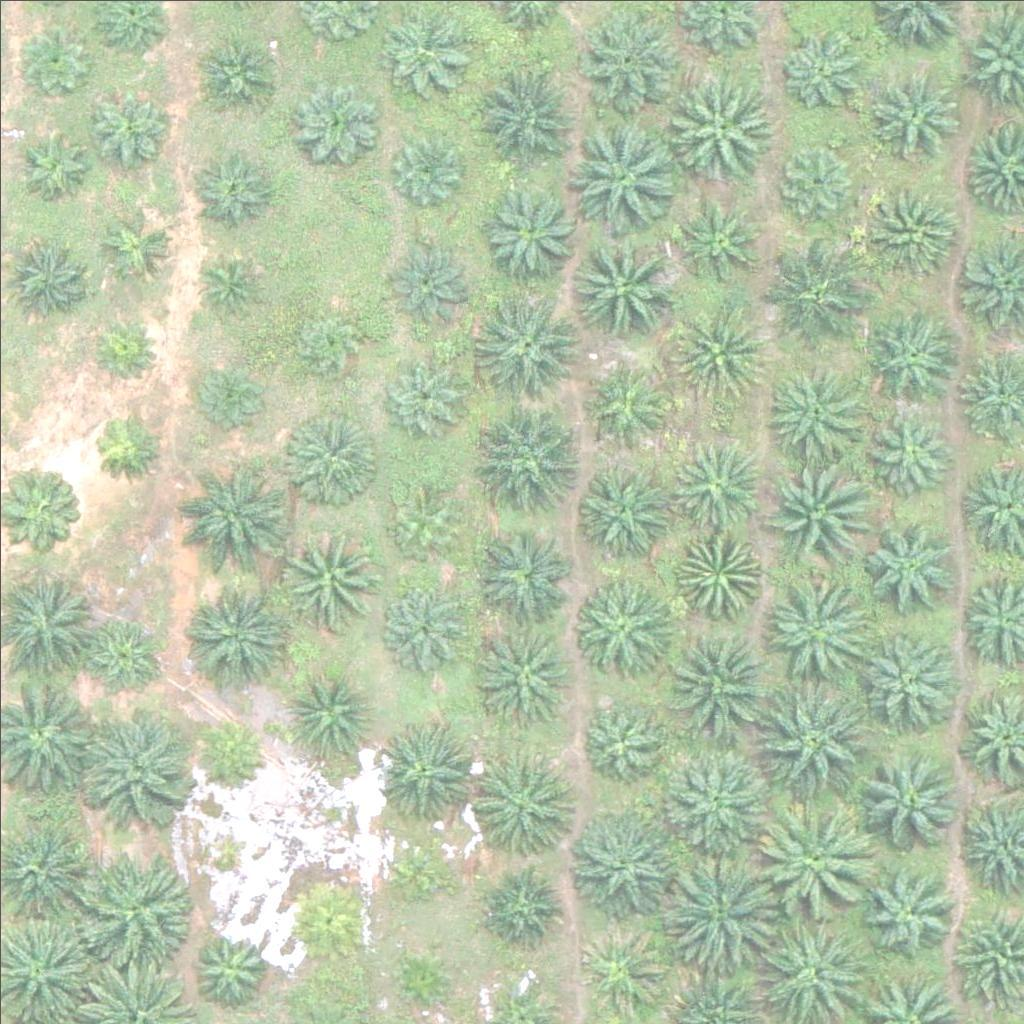Kelapa_Sawit: (475, 51, 588, 164), (566, 114, 679, 227), (755, 242, 868, 355), (755, 567, 868, 680), (756, 683, 869, 796), (74, 857, 187, 970), (77, 709, 190, 822), (656, 745, 768, 859), (561, 228, 673, 342), (667, 70, 779, 183), (757, 353, 869, 466), (762, 463, 874, 576), (759, 800, 871, 913), (669, 852, 781, 965), (664, 631, 776, 744), (566, 811, 678, 924), (475, 400, 587, 513), (474, 286, 586, 399), (173, 460, 285, 573), (479, 176, 579, 277), (582, 9, 682, 110), (865, 180, 965, 281), (856, 858, 956, 959), (858, 748, 958, 849), (863, 512, 963, 613), (860, 300, 960, 401), (670, 301, 770, 402), (571, 457, 671, 558), (572, 581, 672, 682), (470, 617, 570, 718), (472, 526, 572, 627), (379, 719, 479, 820), (280, 526, 380, 627), (183, 587, 283, 688), (859, 631, 959, 731), (473, 756, 573, 856), (279, 408, 379, 508), (85, 84, 173, 173), (284, 877, 372, 966), (187, 141, 275, 229), (199, 25, 287, 113), (769, 136, 857, 224), (780, 29, 868, 117), (867, 68, 955, 156), (78, 608, 166, 696), (671, 444, 759, 532), (675, 193, 763, 281), (577, 369, 665, 457), (384, 236, 472, 324), (377, 354, 465, 442), (292, 78, 379, 166), (381, 5, 468, 93), (577, 928, 664, 1016), (866, 411, 953, 499), (674, 536, 761, 624), (573, 694, 660, 782), (478, 864, 565, 952), (380, 587, 467, 675), (286, 667, 373, 755), (189, 923, 276, 1011), (194, 718, 269, 794), (389, 127, 464, 203), (191, 356, 266, 432), (16, 17, 91, 93), (193, 244, 268, 320), (386, 941, 461, 1017), (382, 833, 457, 909), (86, 407, 161, 482), (385, 486, 460, 561), (101, 207, 176, 282), (287, 302, 362, 377), (13, 123, 88, 198), (86, 311, 161, 386)
